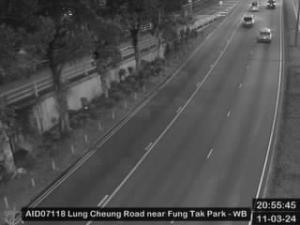vehicle: (256, 29, 272, 44), (241, 15, 255, 27), (250, 0, 260, 10), (268, 1, 276, 8)
